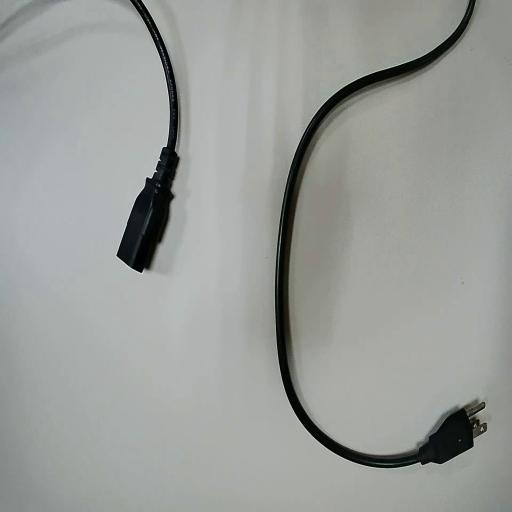wire: (276, 0, 480, 466), (118, 0, 178, 270)
